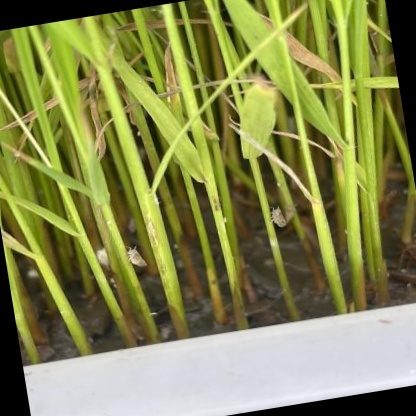Brown_hopper: (116, 239, 154, 282), (260, 200, 294, 239)
